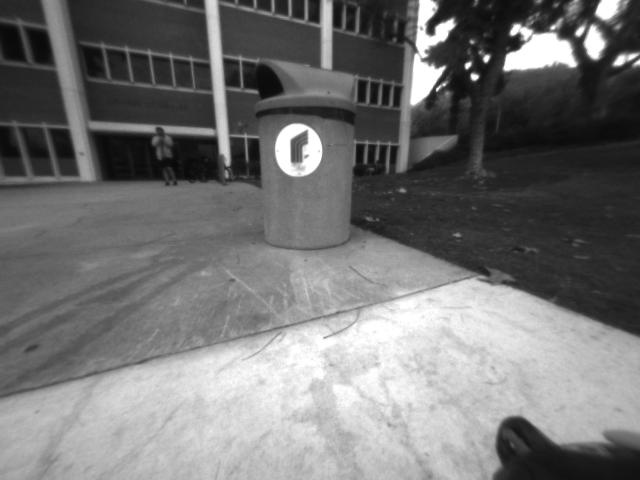trashcan: (245, 52, 377, 251)
